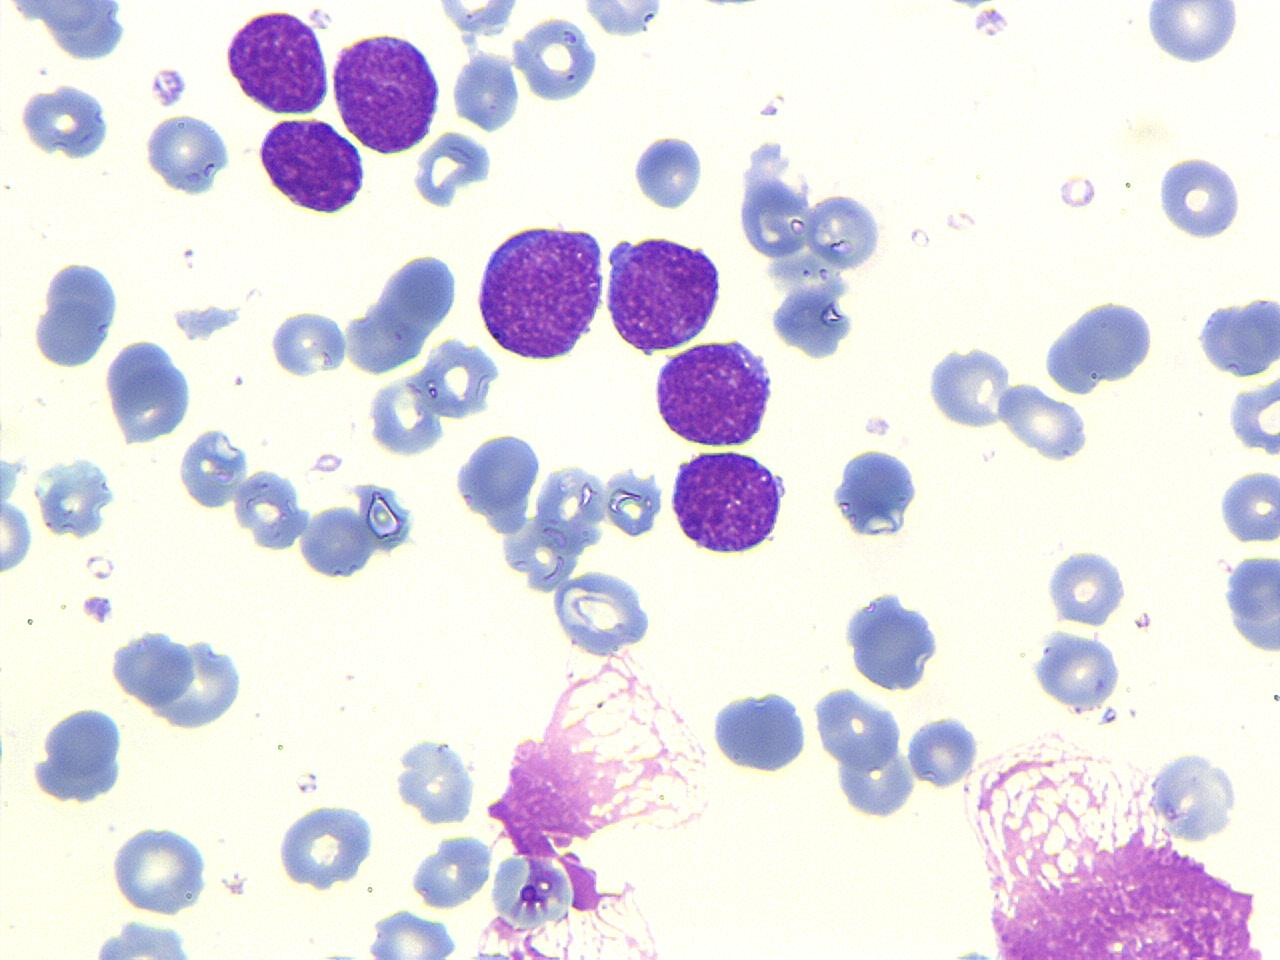Platelets: (1043, 544, 1131, 628), (1139, 3, 1243, 69), (628, 132, 705, 211), (172, 302, 242, 343), (146, 66, 190, 110), (1056, 173, 1100, 212), (967, 5, 1012, 41), (0, 452, 22, 511), (81, 591, 115, 625), (691, 0, 761, 15), (946, 942, 993, 960), (316, 944, 360, 960), (366, 938, 395, 960)
RBC: (548, 568, 655, 659), (110, 824, 210, 914), (1155, 150, 1243, 245), (994, 379, 1091, 465), (513, 12, 599, 107), (1029, 626, 1121, 714), (1043, 545, 1129, 628), (1139, 2, 1243, 70), (411, 125, 493, 211), (366, 374, 444, 460), (906, 712, 981, 788), (1217, 464, 1279, 547), (366, 906, 461, 960), (602, 462, 664, 542), (432, 0, 524, 35), (0, 496, 34, 576)
WBC: (948, 737, 1280, 960), (729, 133, 899, 367), (469, 215, 609, 362), (809, 672, 930, 824), (107, 623, 249, 737), (600, 232, 728, 356), (330, 27, 445, 158), (651, 334, 779, 452), (346, 246, 460, 378), (666, 444, 792, 556), (1040, 293, 1160, 398), (223, 6, 334, 119), (253, 113, 368, 217), (840, 588, 946, 696), (30, 255, 124, 372), (101, 336, 195, 448), (29, 702, 128, 808), (274, 798, 380, 896), (548, 566, 655, 662), (452, 428, 543, 534), (708, 684, 813, 775), (1146, 745, 1244, 843), (828, 442, 922, 541), (140, 110, 237, 200), (0, 1, 133, 66), (1154, 152, 1246, 245), (15, 78, 115, 162), (390, 732, 478, 828), (924, 344, 1016, 434), (1028, 628, 1124, 714), (512, 12, 599, 105), (1194, 292, 1280, 380), (31, 455, 118, 541), (1043, 544, 1129, 628), (293, 499, 381, 582), (110, 626, 194, 712), (59, 916, 227, 958), (407, 830, 493, 912), (367, 372, 445, 461), (176, 424, 251, 514), (447, 48, 523, 134), (1223, 548, 1280, 658), (267, 308, 346, 380), (1215, 465, 1278, 547), (1226, 372, 1280, 463), (365, 908, 463, 958), (578, 0, 670, 39)
